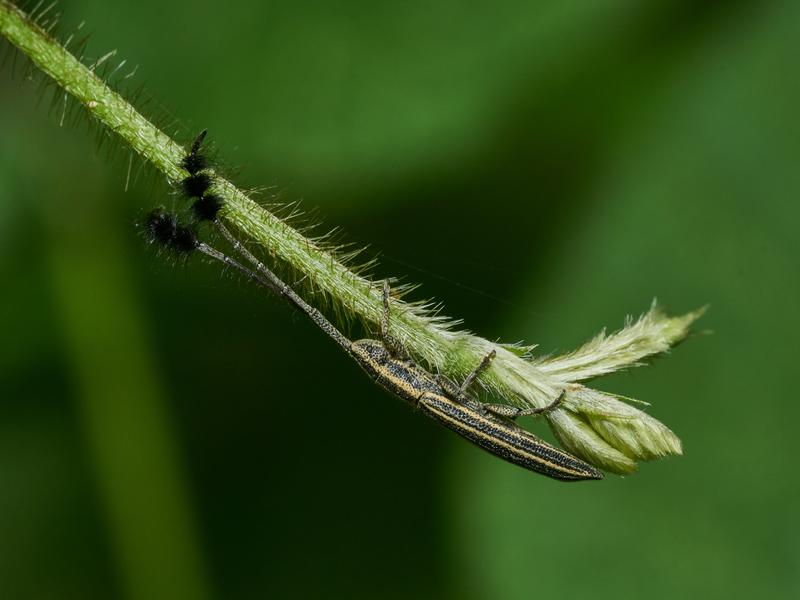Paddy_stemborer: (207, 194, 619, 509)
